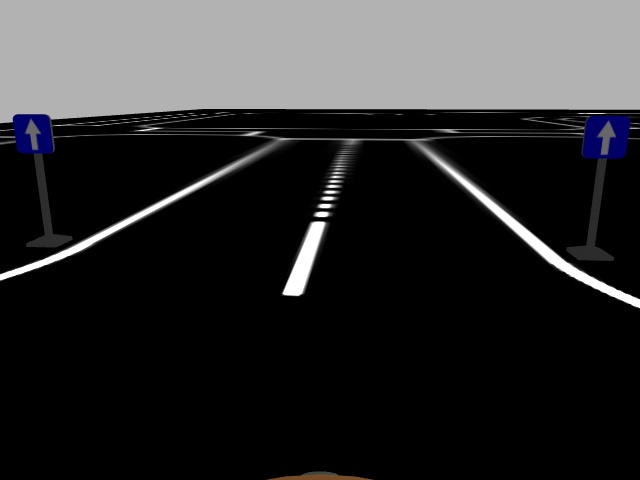oneway: (583, 111, 631, 162), (9, 110, 59, 157)
